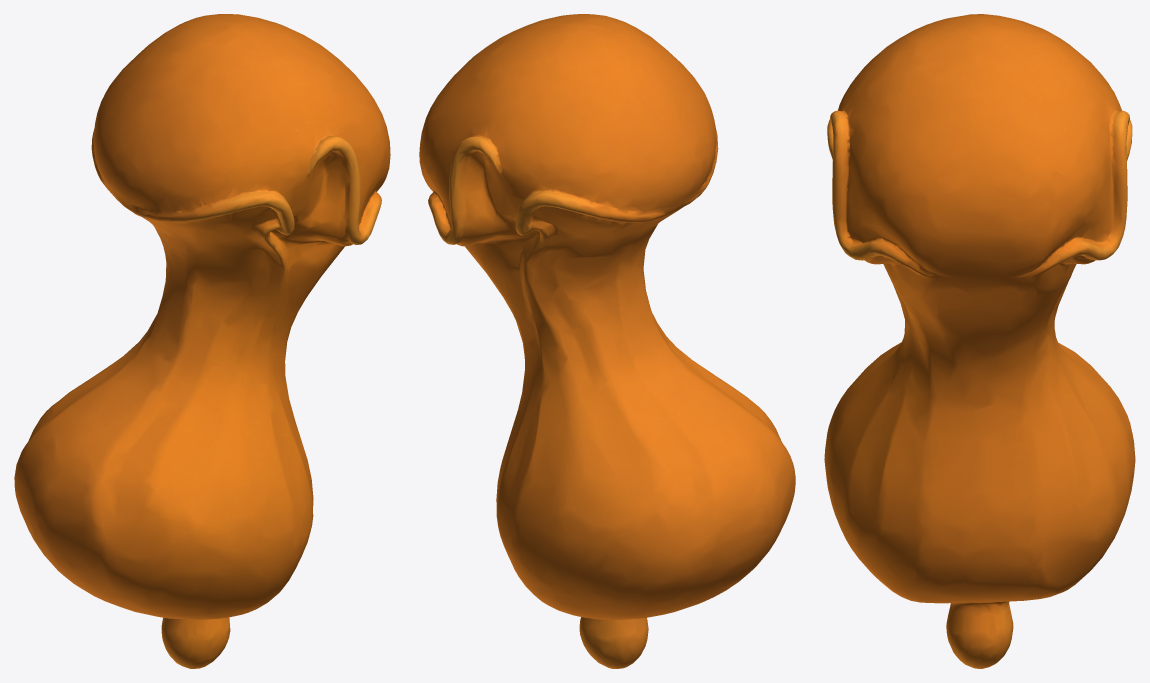
Rendered from Char_Enzyme.glb.
3 renders of one model, left to right at view 1: azimuth 30°, elevation 25°; view 2: azimuth 150°, elevation 25°; view 3: azimuth 270°, elevation 25°, orthographic. The views are drawn at different scales.
Bounding box in the file's own units: 1.04 × 1.9 × 0.8107.
1 material, 1 textured.
